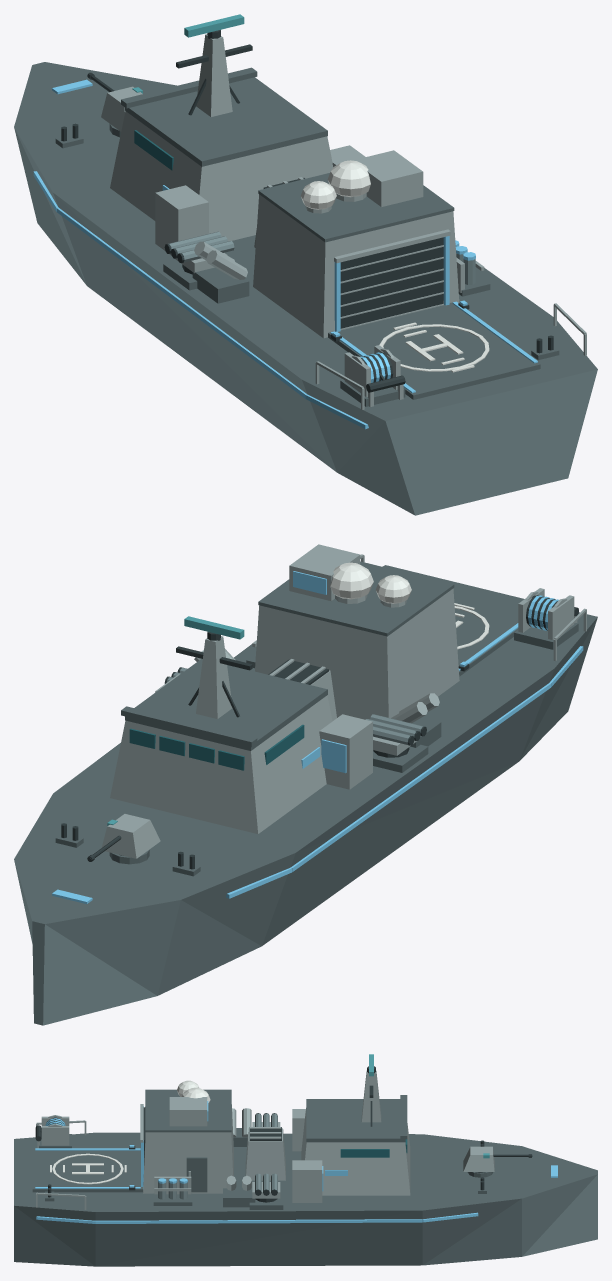
File: ESC_ASW_T3.fbx
3 renders of one model, top to bottom at view 1: azimuth 30°, elevation 25°; view 2: azimuth 150°, elevation 25°; view 3: azimuth 270°, elevation 25°, orthographic. The views are drawn at different scales.
Parts seen in each view (by area): view 1: ContinuousHull.006, Deckhouse.006, HelicopterHangar.001, Roof.006, HelicopterDeck.002, AftFacingHangarDoor.001, HangarRoof.001, AcousticProcessingCabinet, AcousticControlCabinet, NavMast.002, RoleHullStripe-1_1.006, DepthLauncherBase.004 (+9 smaller); view 2: ContinuousHull.006, Deckhouse.006, HelicopterHangar.001, Roof.006, HangarRoof.001, HelicopterDeck.002, AcousticProcessingCabinet, NavMast.002, AcousticControlCabinet, PrimaryGunCupola.006, RoleHullStripe-1_1.006, BridgeBrow.006 (+8 smaller); view 3: ContinuousHull.006, Deckhouse.006, HelicopterHangar.001, HelicopterDeck.002, Roof.006, HangarRoof.001, FunnelEnclosure.006, AcousticProcessingCabinet.001, RoleHullStripe1_1.006, AcousticControlCabinet, NavMast.002, PrimaryGunCupola.006 (+11 smaller).
Boxes of the visible parts, <box> form: ContinuousHull.006: <box>14,62,597,515</box>; Deckhouse.006: <box>110,111,332,241</box>; HelicopterHangar.001: <box>253,194,459,338</box>; Roof.006: <box>125,77,327,166</box>; HelicopterDeck.002: <box>328,302,540,399</box>; AftFacingHangarDoor.001: <box>340,237,443,328</box>; HangarRoof.001: <box>258,173,454,242</box>; AcousticProcessingCabinet: <box>155,185,208,255</box>; AcousticControlCabinet: <box>352,150,423,206</box>; NavMast.002: <box>196,34,232,116</box>; RoleHullStripe-1_1.006: <box>56,207,306,398</box>; DepthLauncherBase.004: <box>192,267,249,303</box>; ContinuousHull.006: <box>14,565,597,1025</box>; Deckhouse.006: <box>110,695,332,833</box>; HelicopterHangar.001: <box>255,588,459,719</box>; Roof.006: <box>125,659,327,750</box>; HangarRoof.001: <box>258,561,454,636</box>; HelicopterDeck.002: <box>453,591,518,676</box>; AcousticProcessingCabinet: <box>319,714,372,789</box>; NavMast.002: <box>196,636,232,718</box>; AcousticControlCabinet: <box>289,544,360,600</box>; PrimaryGunCupola.006: <box>101,814,160,858</box>; RoleHullStripe-1_1.006: <box>291,683,550,872</box>; BridgeBrow.006: <box>121,706,257,747</box>; ContinuousHull.006: <box>14,1132,597,1266</box>; Deckhouse.006: <box>301,1108,410,1195</box>; HelicopterHangar.001: <box>143,1104,233,1193</box>; HelicopterDeck.002: <box>32,1149,142,1192</box>; Roof.006: <box>306,1099,405,1142</box>; HangarRoof.001: <box>145,1089,231,1132</box>; FunnelEnclosure.006: <box>245,1128,285,1180</box>; AcousticProcessingCabinet.001: <box>292,1160,322,1202</box>; RoleHullStripe1_1.006: <box>95,1219,422,1223</box>; AcousticControlCabinet: <box>169,1097,207,1126</box>; NavMast.002: <box>361,1070,381,1122</box>; PrimaryGunCupola.006: <box>463,1146,494,1171</box>.
Size of the model in its own units: 290 by 297 by 900.
